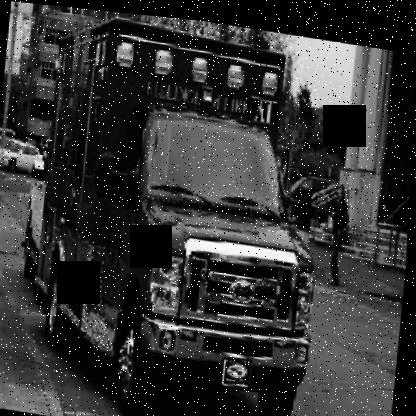emergency: (17, 10, 366, 415)
